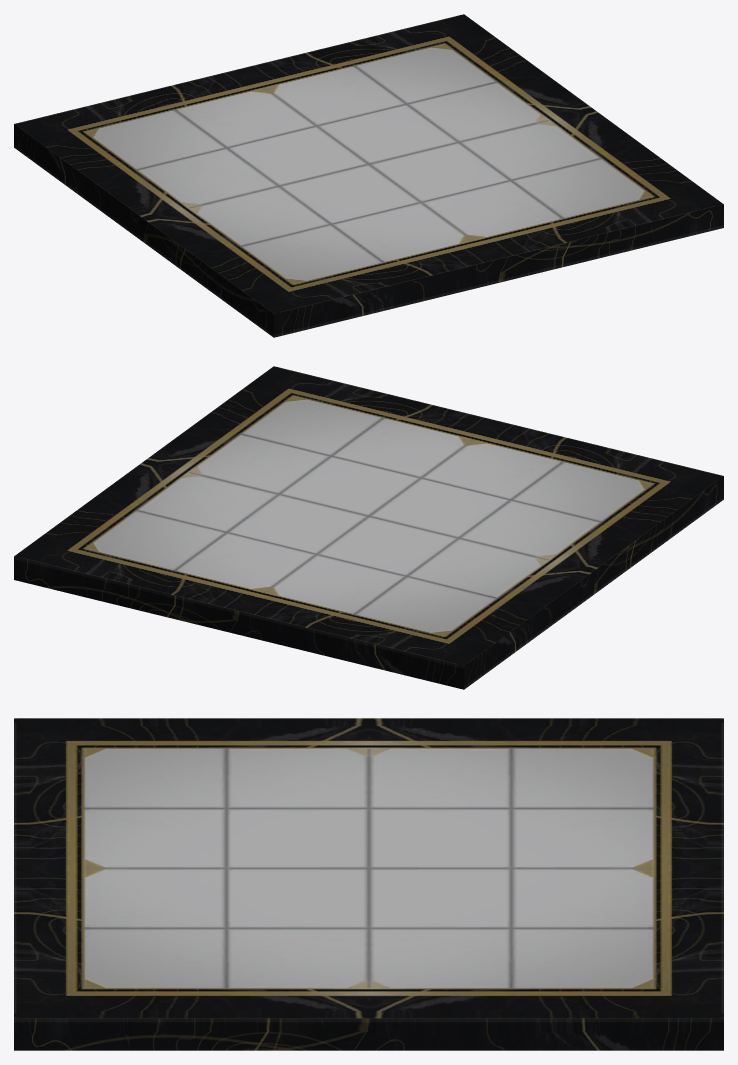
Rendered from room_ab2024_floor.gltf.
3 views of the same model, one above another, from view 1: azimuth 30°, elevation 25°; view 2: azimuth 150°, elevation 25°; view 3: azimuth 270°, elevation 25° (orthographic). The views are drawn at different scales.
Visible parts, largest first — view 1: ab2024_floor; view 2: ab2024_floor; view 3: ab2024_floor.
Part boxes in pixels (left/top/right/bottom): ab2024_floor: left=14, top=14, right=723, bottom=337; ab2024_floor: left=14, top=366, right=723, bottom=689; ab2024_floor: left=14, top=718, right=723, bottom=1050.
Size of the model in its own units: 4 by 0.2 by 4.
1 material, 1 textured.
